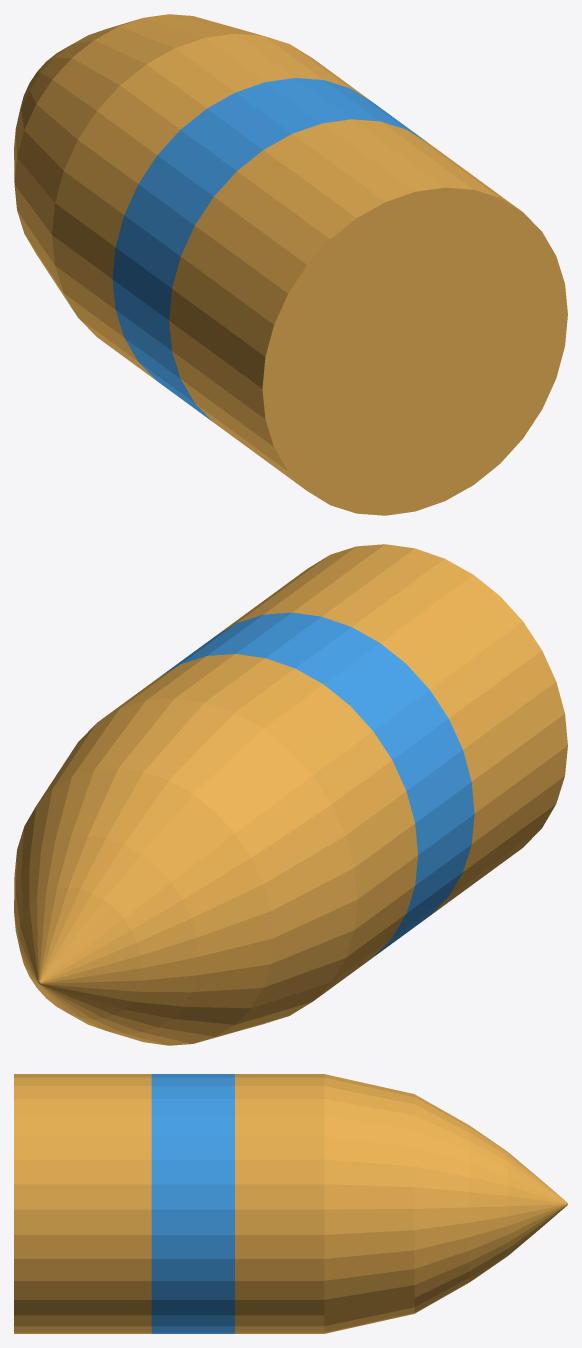
File: Bullet.fbx
3 renders of one model, top to bottom at view 1: azimuth 30°, elevation 25°; view 2: azimuth 150°, elevation 25°; view 3: azimuth 270°, elevation 25°, orthographic. The views are drawn at different scales.
Visible parts, largest first — view 1: Cylinder; view 2: Cylinder; view 3: Cylinder.
Part boxes in pixels (bbox=[...]): Cylinder: bbox=[14, 14, 567, 515]; Cylinder: bbox=[14, 544, 567, 1045]; Cylinder: bbox=[14, 1074, 567, 1333].
Bounding box in the file's own units: 165 × 165 × 352.
